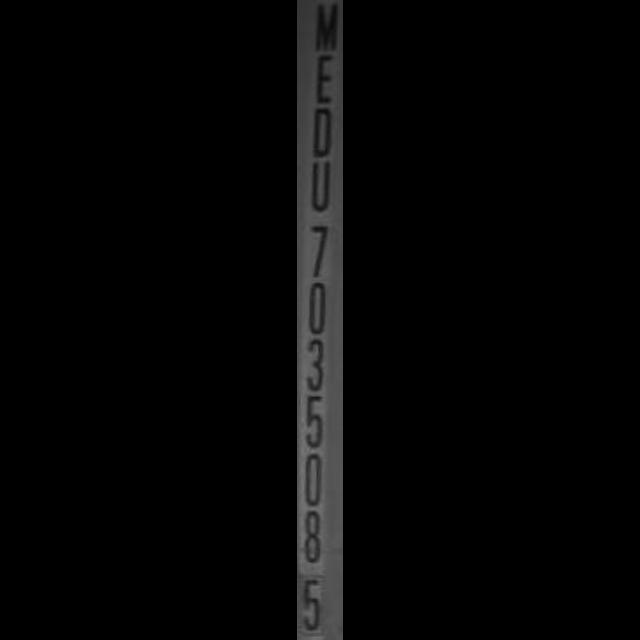0: (297, 452, 333, 512), (298, 280, 334, 338)
3: (298, 334, 334, 394)
5: (298, 387, 332, 455), (298, 576, 332, 638)
7: (303, 218, 339, 282)
8: (298, 510, 332, 570)
d: (302, 101, 343, 160)
e: (302, 51, 343, 108)
m: (298, 0, 344, 48)
u: (304, 153, 344, 214)
